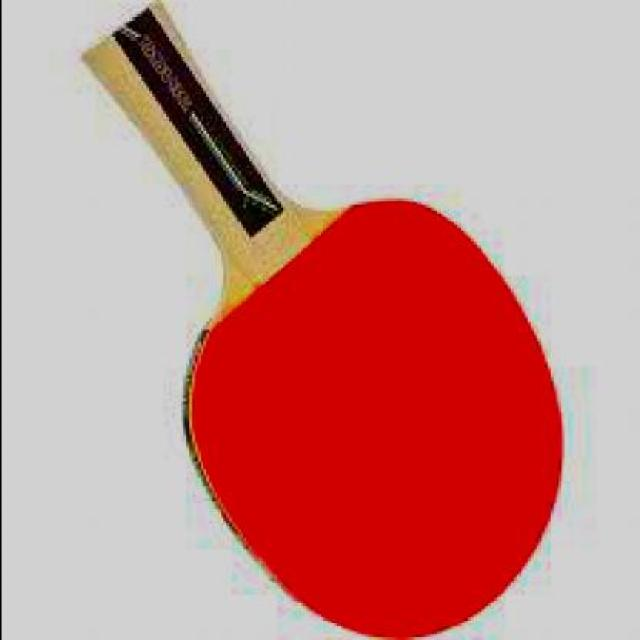table_tennis_racket: (179, 191, 564, 638)
